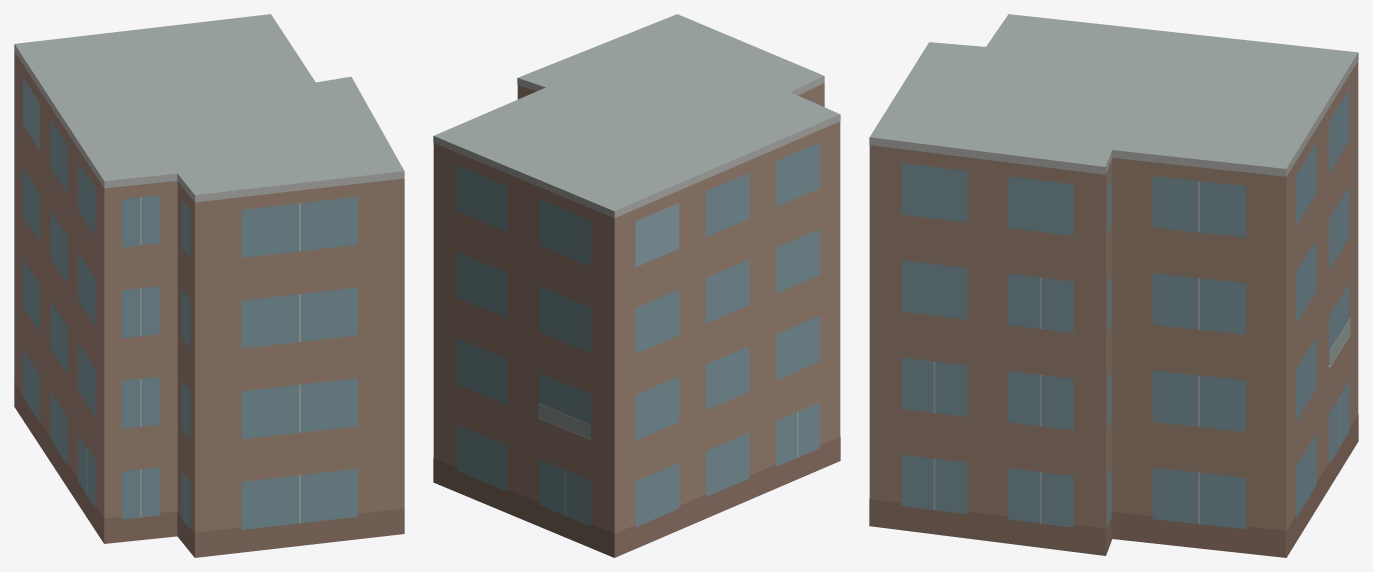
The model's file is survey-upis-32617075.glb.
3 renders of one model, left to right at view 1: azimuth 30°, elevation 25°; view 2: azimuth 150°, elevation 25°; view 3: azimuth 270°, elevation 25°, orthographic. The views are drawn at different scales.
Visible parts, largest first — view 1: survey-upis-32617075.tmp; view 2: survey-upis-32617075.tmp; view 3: survey-upis-32617075.tmp.
Part boxes in pixels (x1=…): survey-upis-32617075.tmp: x1=14, y1=14, x2=404, y2=557; survey-upis-32617075.tmp: x1=433, y1=14, x2=840, y2=557; survey-upis-32617075.tmp: x1=869, y1=14, x2=1358, y2=557.
Bounding box in the file's own units: 10.44 × 12.2 × 13.91.
